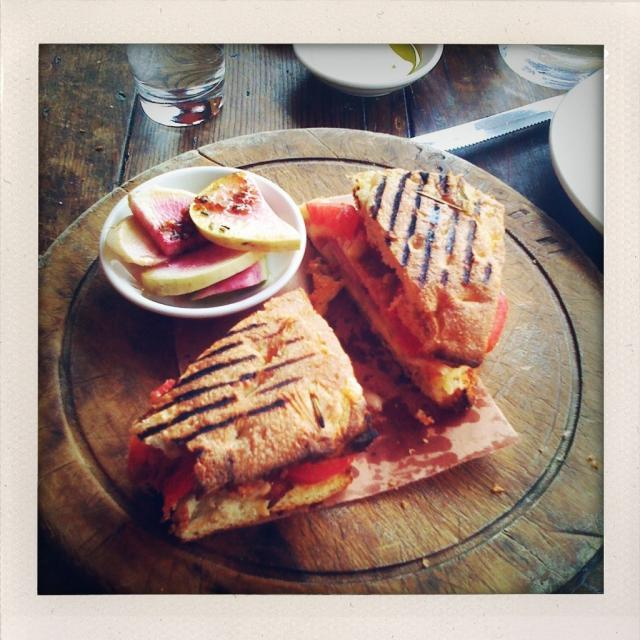Sandwich: (131, 283, 367, 539), (309, 166, 511, 406)
